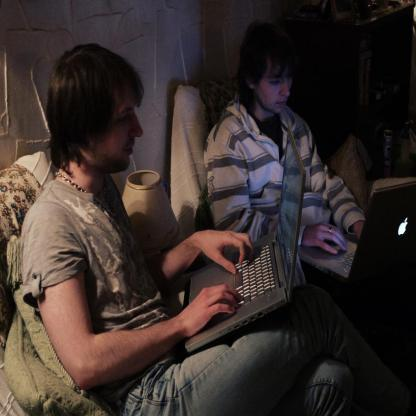board: (188, 129, 308, 353), (298, 178, 416, 282)
